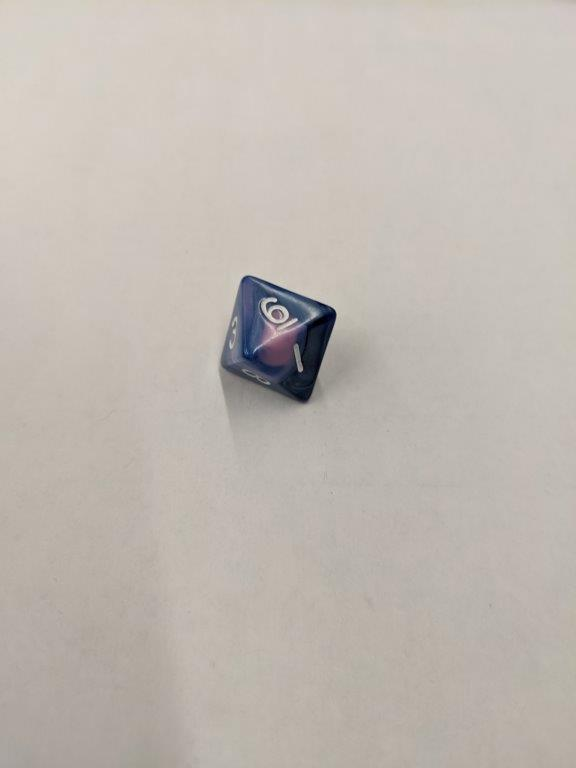d8-6: (217, 270, 336, 405)
